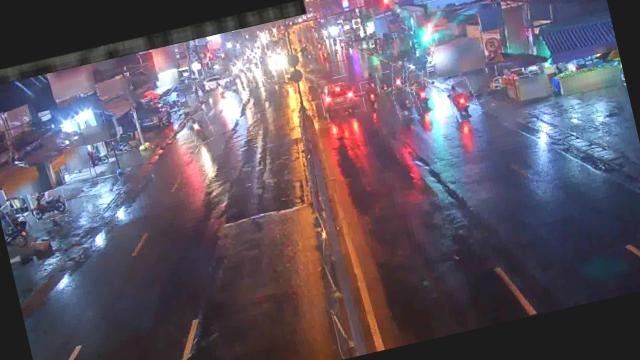Bike: (444, 78, 480, 122), (30, 188, 70, 223), (186, 112, 215, 146), (413, 82, 436, 116), (393, 88, 417, 120), (360, 80, 381, 111), (107, 133, 136, 154), (388, 64, 408, 93), (404, 64, 426, 90), (376, 71, 394, 95)
Car: (318, 76, 358, 122)
